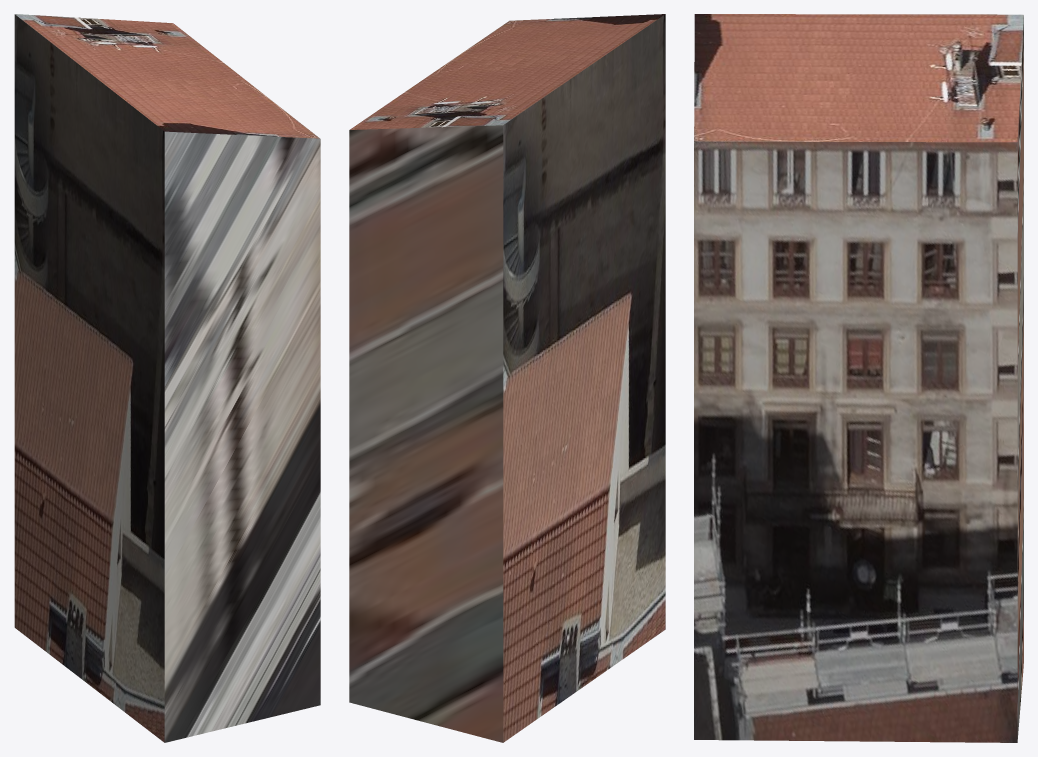
The picture shows the model from 3 angles, left to right: view 1: azimuth 30°, elevation 25°; view 2: azimuth 150°, elevation 25°; view 3: azimuth 270°, elevation 25°; orthographic projection. The views are drawn at different scales.
Parts seen in each view (by area): view 1: Z_UP; view 2: Z_UP; view 3: Z_UP.
Part boxes in pixels (left/top/right/bottom): Z_UP: left=14, top=14, right=320, bottom=742; Z_UP: left=349, top=14, right=665, bottom=742; Z_UP: left=694, top=14, right=1023, bottom=742.
Bounding box in the file's own units: 6.72 × 24.42 × 11.26.
Materials: 2 (1 with a texture image).
